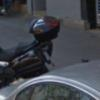bicycles: (81, 0, 99, 30)
motorcycles: (1, 15, 60, 89)
